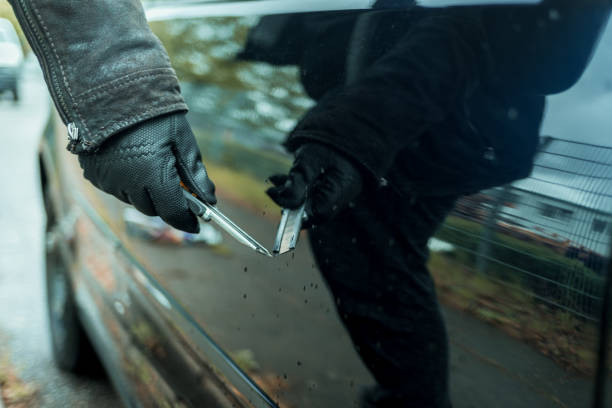knife: (179, 180, 272, 259), (271, 202, 308, 256)
